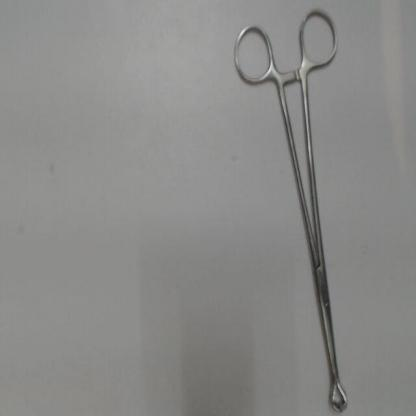8 Babcock Tissue Forceps: (226, 3, 354, 414)
